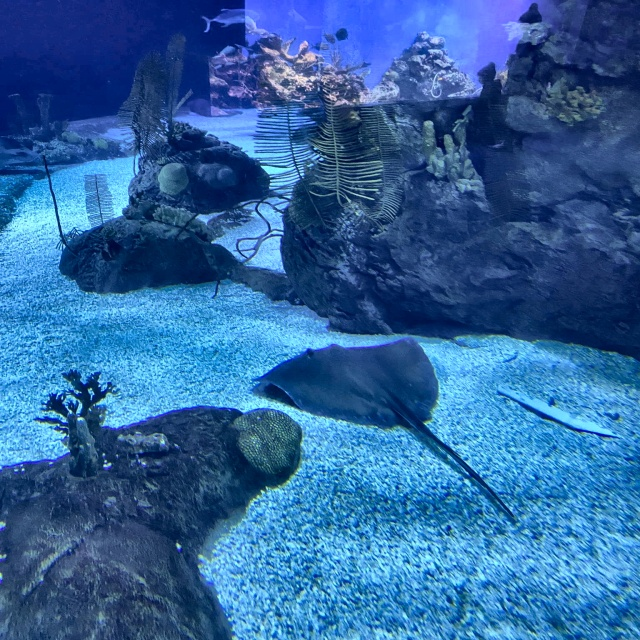fish: (201, 8, 260, 34)
stingray: (250, 336, 439, 429)
